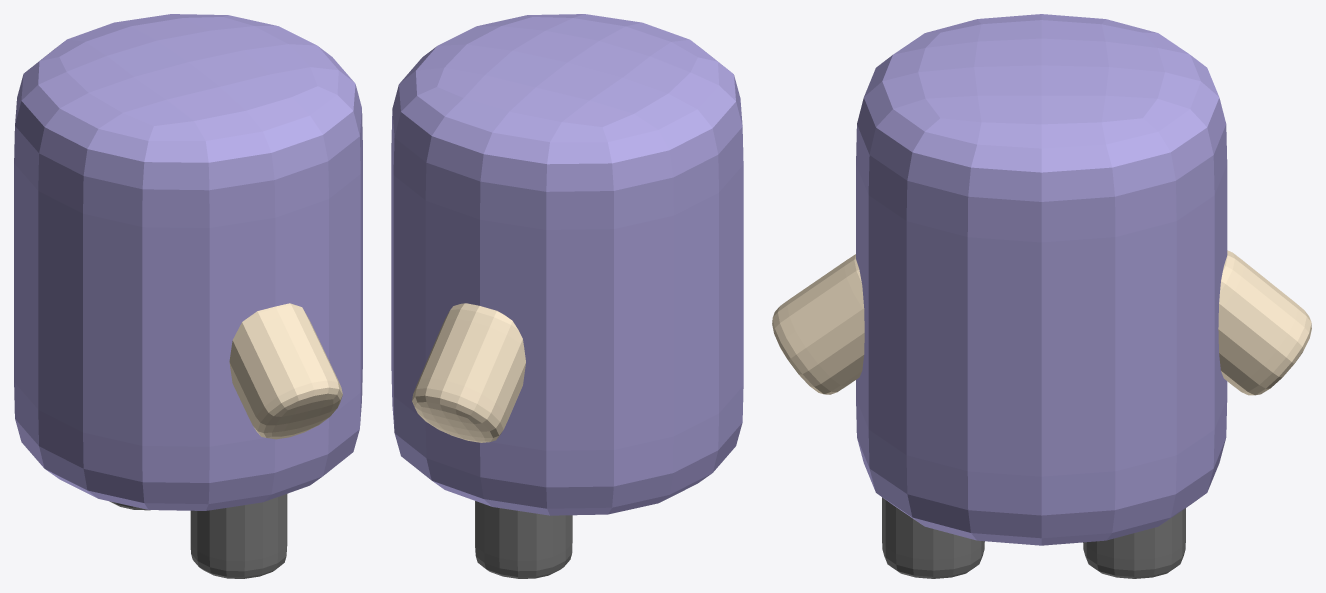
File: soda.fbx
3 views of the same model, side by side, from view 1: azimuth 30°, elevation 25°; view 2: azimuth 150°, elevation 25°; view 3: azimuth 270°, elevation 25° (orthographic). The views are drawn at different scales.
Parts seen in each view (by area): view 1: Cube.001; view 2: Cube.001; view 3: Cube.001.
Part boxes in pixels (x1,y1,x2,y2): Cube.001: (14,14,362,578); Cube.001: (391,14,743,578); Cube.001: (772,14,1311,578).
Size of the model in its own units: 183 by 272 by 267.
